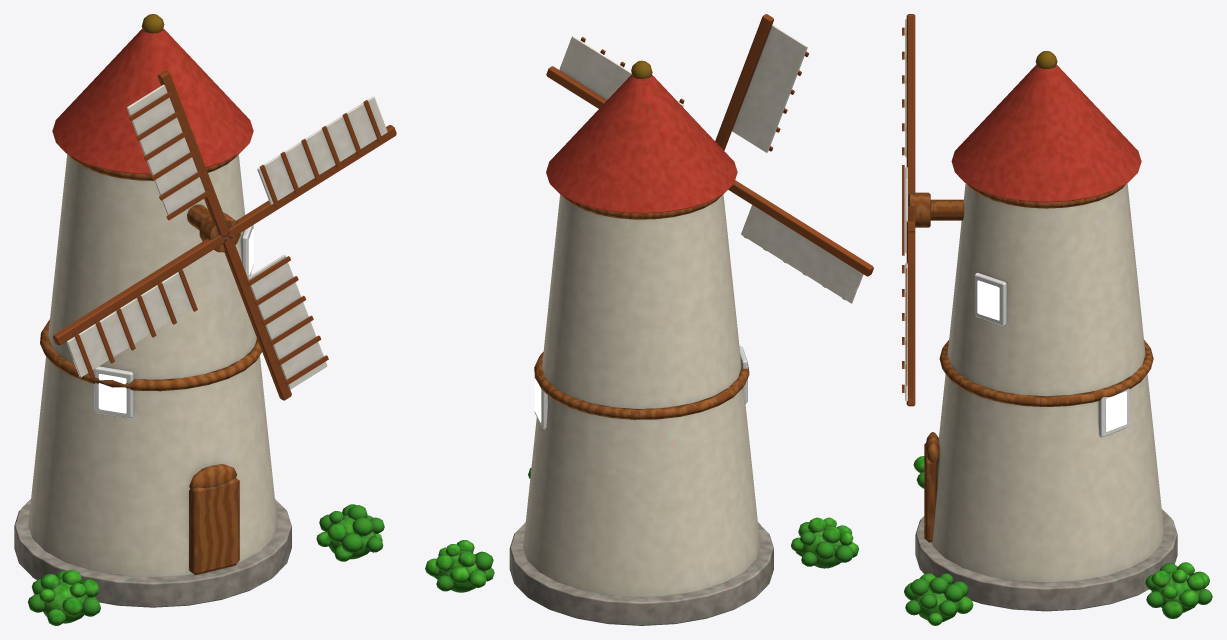
The model's file is windmill.glb.
3 renders of one model, left to right at view 1: azimuth 30°, elevation 25°; view 2: azimuth 150°, elevation 25°; view 3: azimuth 270°, elevation 25°, orthographic. The views are drawn at different scales.
Visible parts, largest first — view 1: windmill, spinZ_sails; view 2: windmill, spinZ_sails; view 3: windmill, spinZ_sails.
Part boxes in pixels (x1=…): windmill: x1=14, y1=14, x2=384, y2=625; spinZ_sails: x1=53, y1=70, x2=396, y2=400; windmill: x1=425, y1=60, x2=858, y2=625; spinZ_sails: x1=546, y1=14, x2=873, y2=303; windmill: x1=904, y1=51, x2=1212, y2=625; spinZ_sails: x1=902, y1=14, x2=930, y2=406.
Bounding box in the file's own units: 1.71 × 2.6 × 1.42.
Materials: 1 (1 with a texture image).
